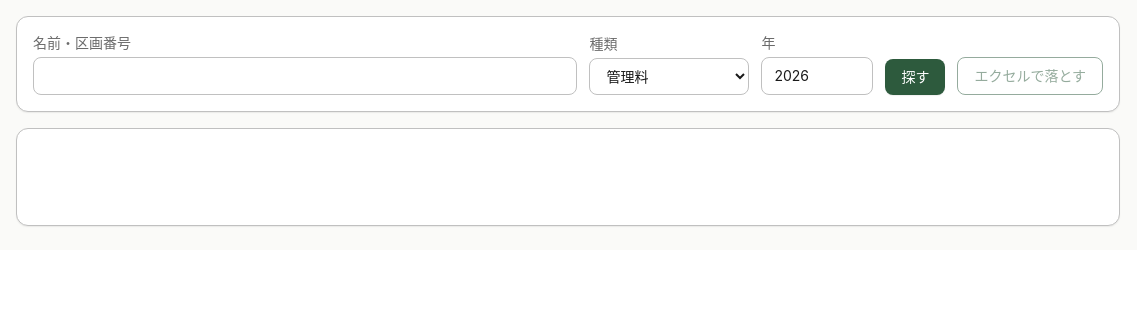
CashierPaymentPage › 探す結果が0件なら未払いなしだけ出し、探してくださいは出さない
In the field: (305,76) [33, 57, 577, 95], type "田中"
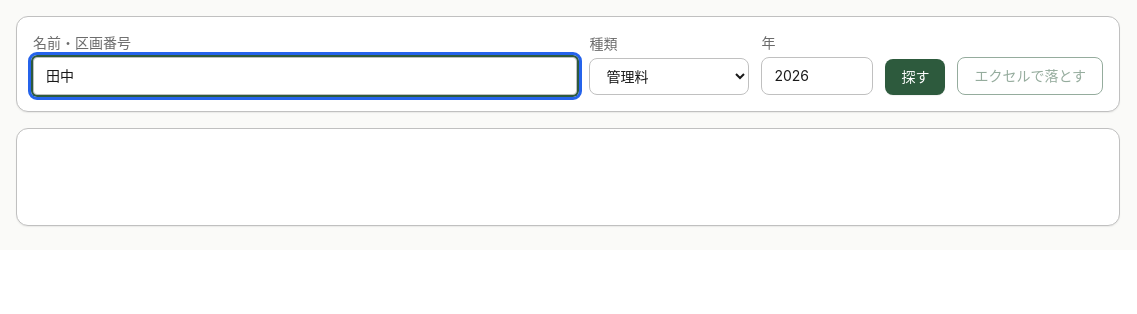
Click the button "探す": (915,77) [885, 59, 945, 95]
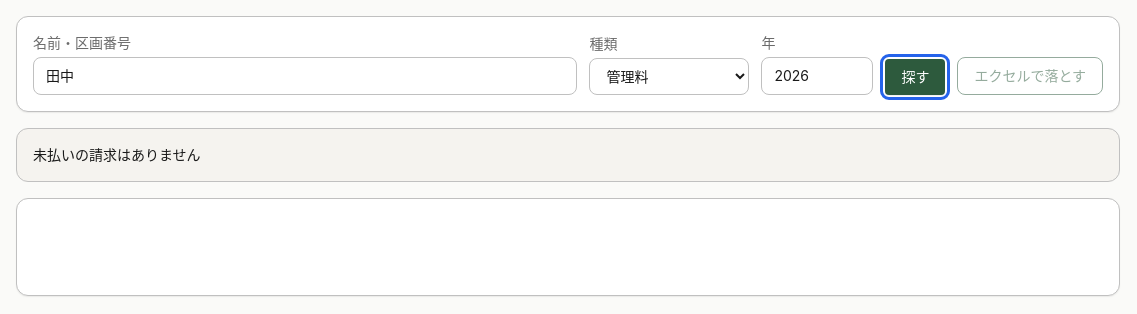
Check: the text "未払いの請求はありません" is shown, box [16, 128, 1120, 182]
